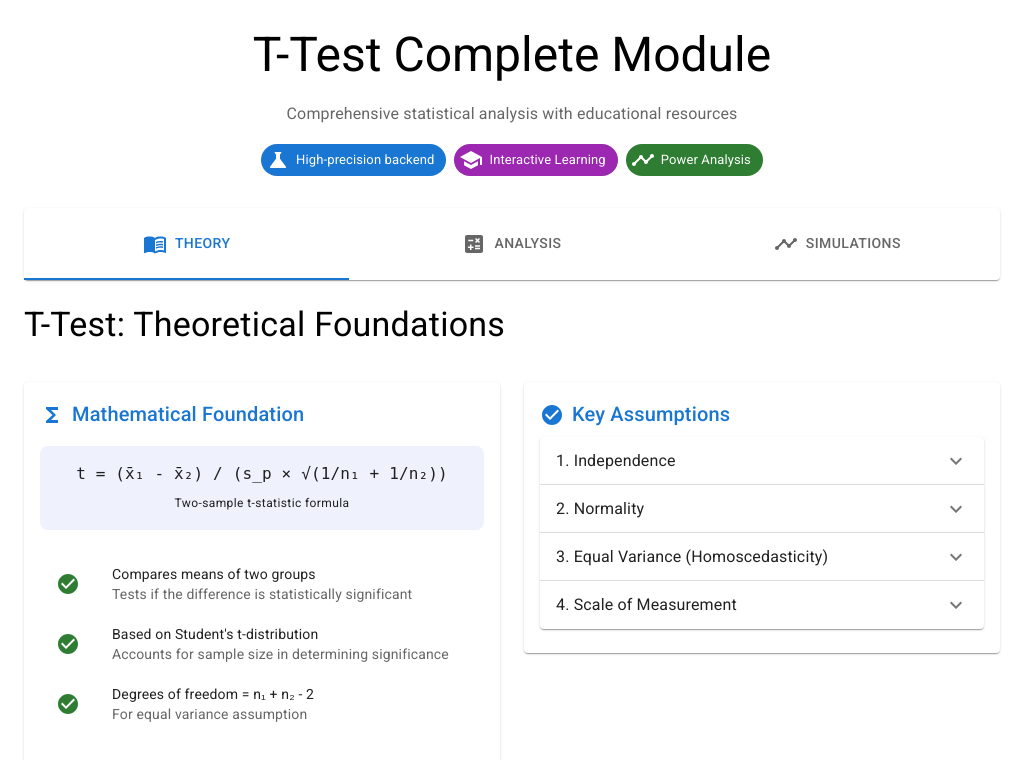
it: at 99% confidence α prints as 0.01, and the table judges p = 0.03 at it
Step 1. Click the tab "Analysis" → (512, 244), box [349,208,675,280]
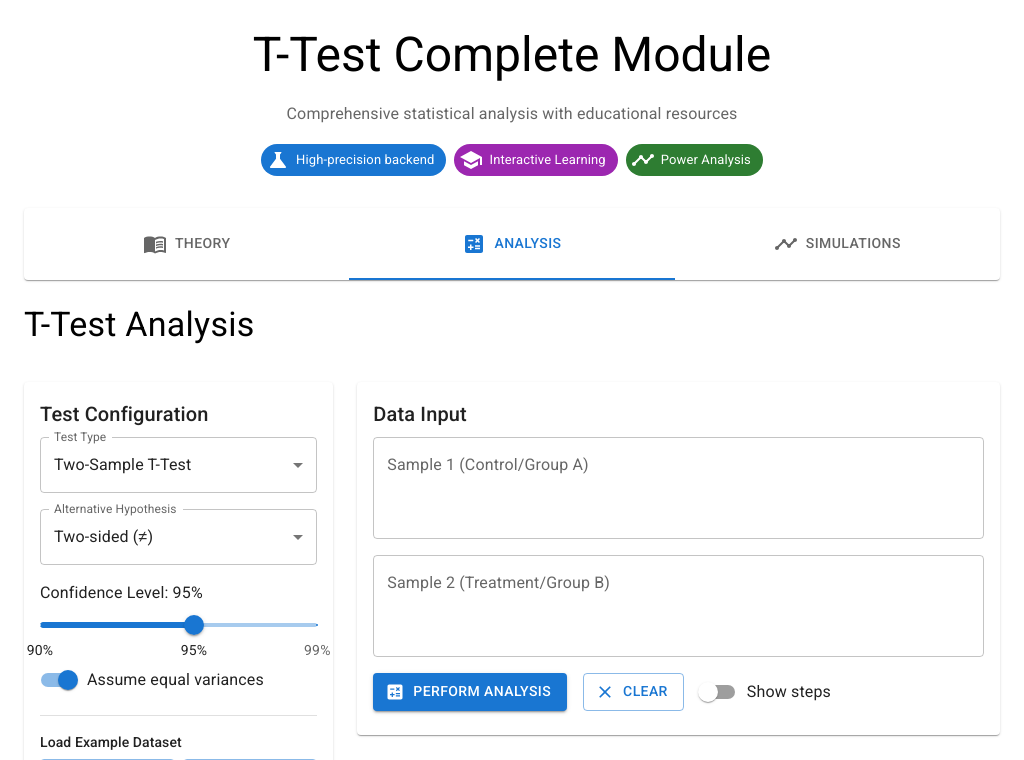
Step 2. Set the slider to "99" → (194, 625), box [184,615,204,635]
(page scrolled)
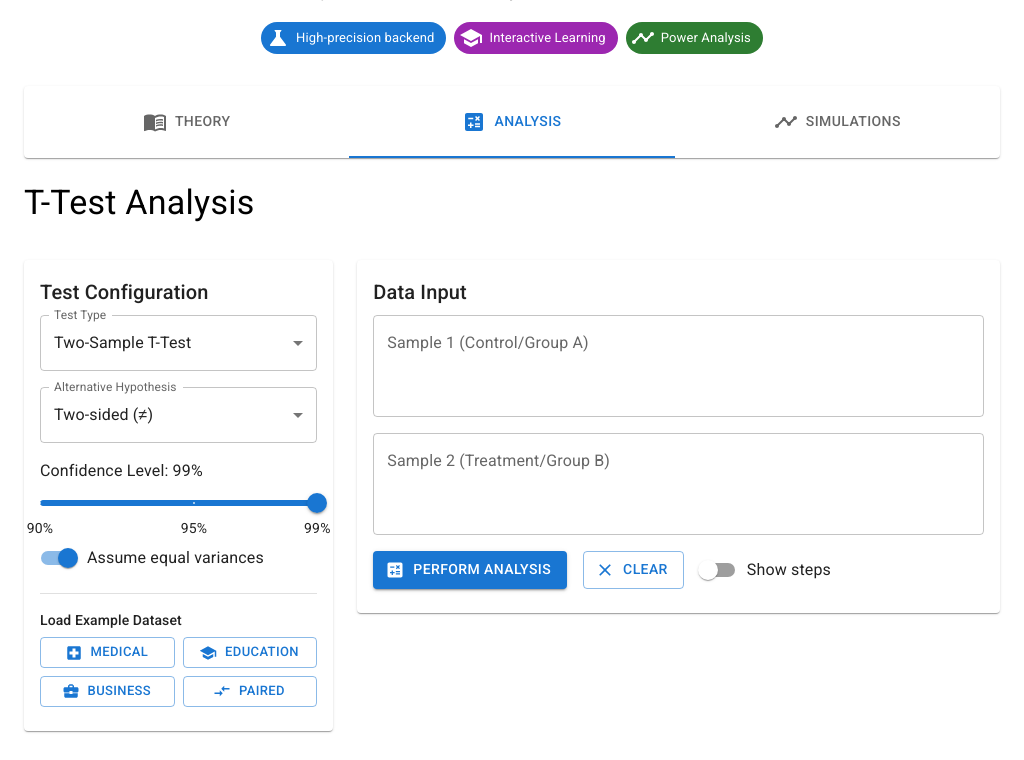
expect the text "Confidence Level: 99%" is shown: met, box [40,461,203,480]
Step 3. Click the button "Medical" → (107, 653), box [40,637,175,668]
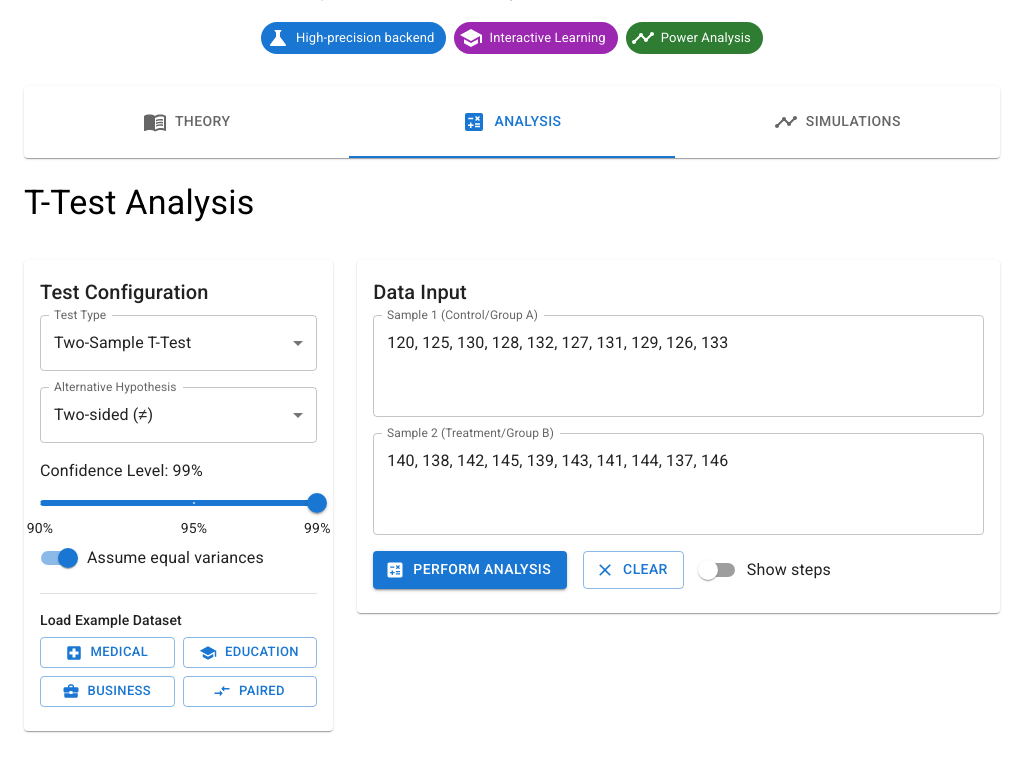
Step 4. Click the button "Perform Analysis" → (470, 570), box [373,551,567,589]
(page scrolled)
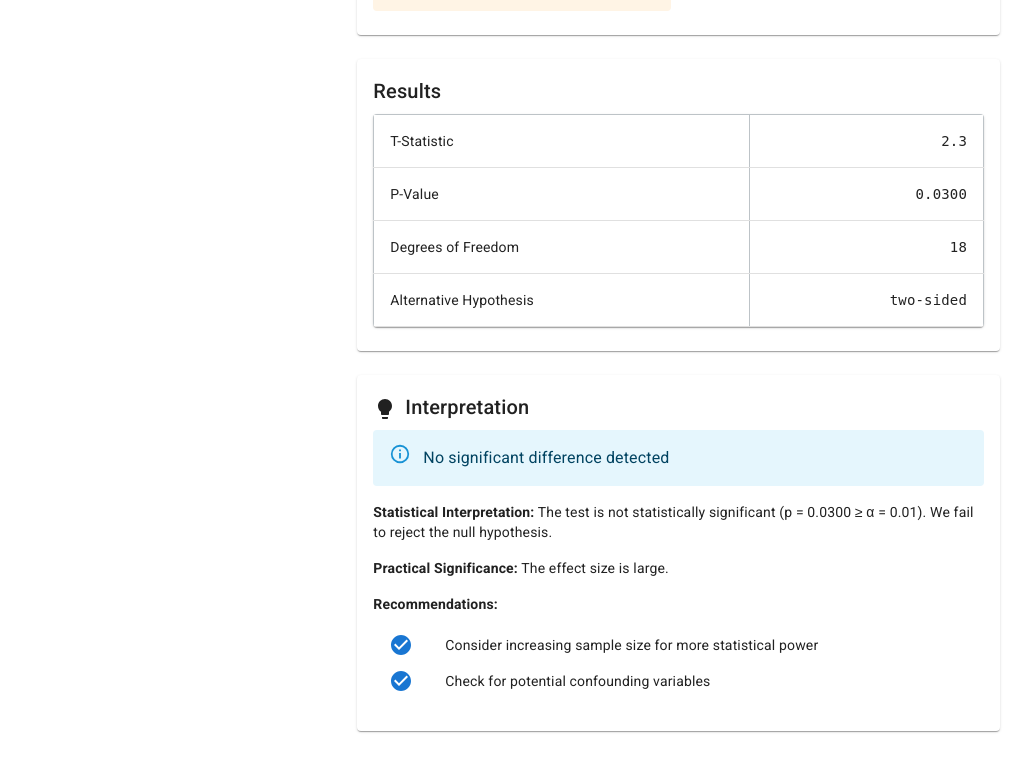
expect the text "The test is not statistically significant (p = 0.0300 ≥ α = 0.01)." is shown: met, box [373,504,974,540]
